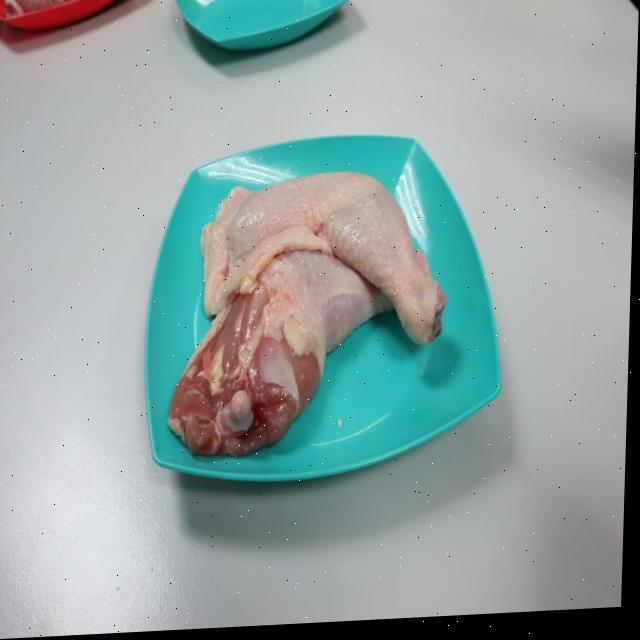quater: (193, 162, 458, 336), (184, 240, 394, 452)
